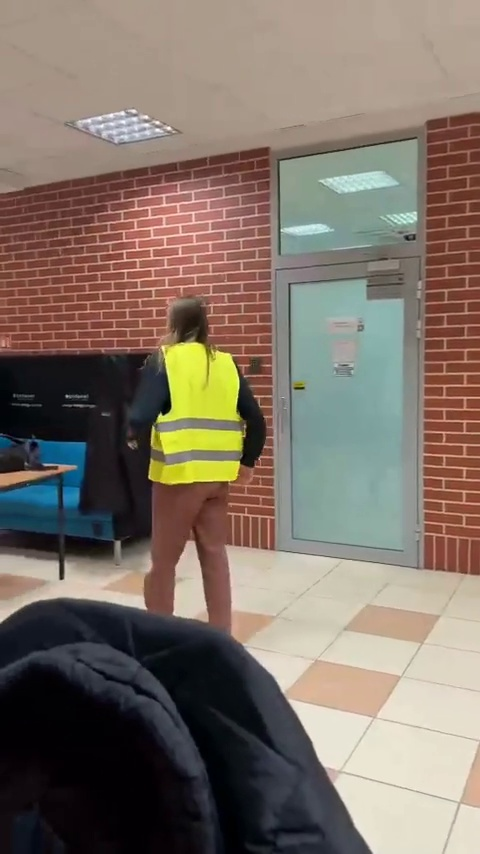vest: (139, 295, 266, 628)
